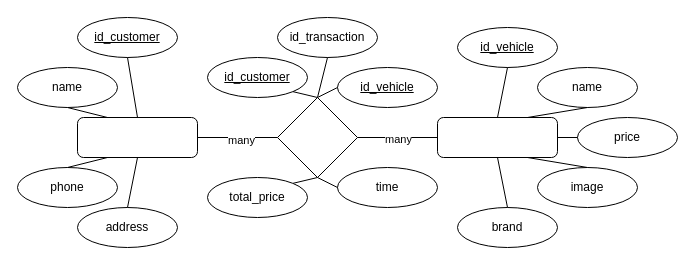
Image size: 695x265. Some labels were removed from this diagram. The box of each missing label's shape, as (x1, y1, x2, y2) in pixels:
buy: (276, 96, 358, 178)
customer: (76, 116, 198, 158)
vehicle: (436, 116, 558, 158)
